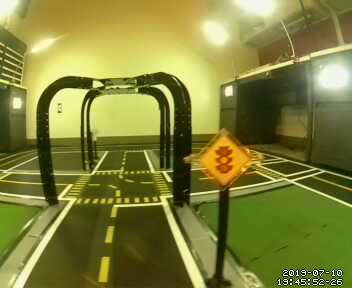Traffic light sign: (201, 131, 249, 186)
